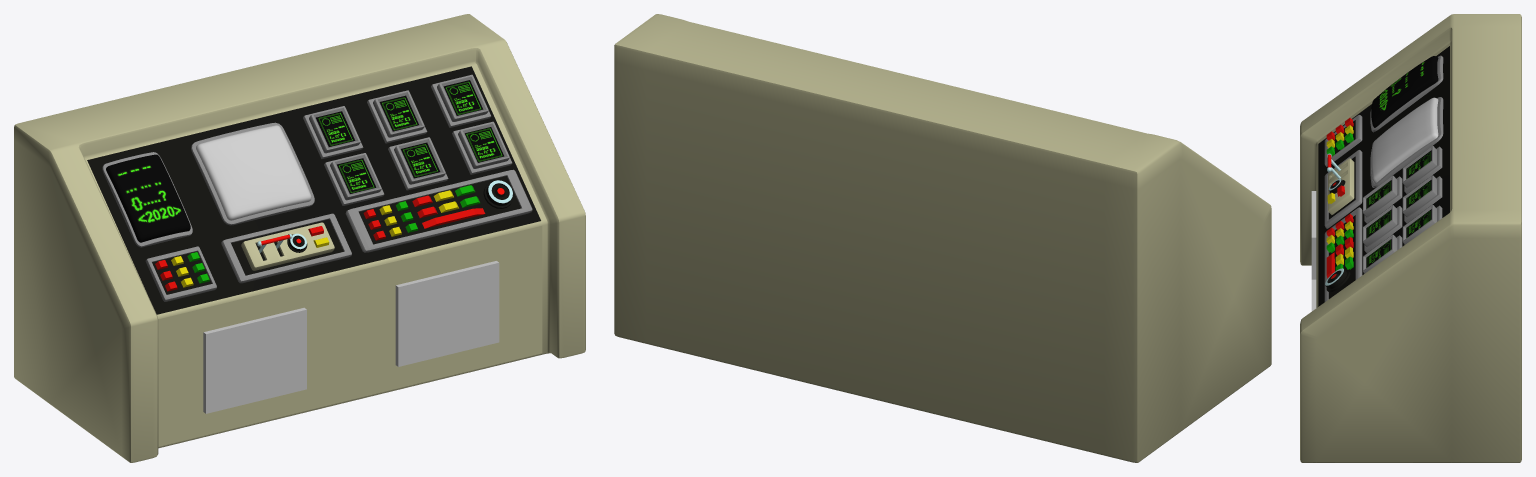
File: Console_B.fbx
3 views of the same model, side by side, from view 1: azimuth 30°, elevation 25°; view 2: azimuth 150°, elevation 25°; view 3: azimuth 270°, elevation 25° (orthographic). The views are drawn at different scales.
Parts seen in each view (by area): view 1: Box007; view 2: Box007; view 3: Box007.
Boxes of the visible parts, x1,y1,x2,y2 form: Box007: (14, 14, 585, 462); Box007: (614, 14, 1271, 462); Box007: (1300, 14, 1521, 462).
Bounding box in the file's own units: 200 × 107 × 89.03.
